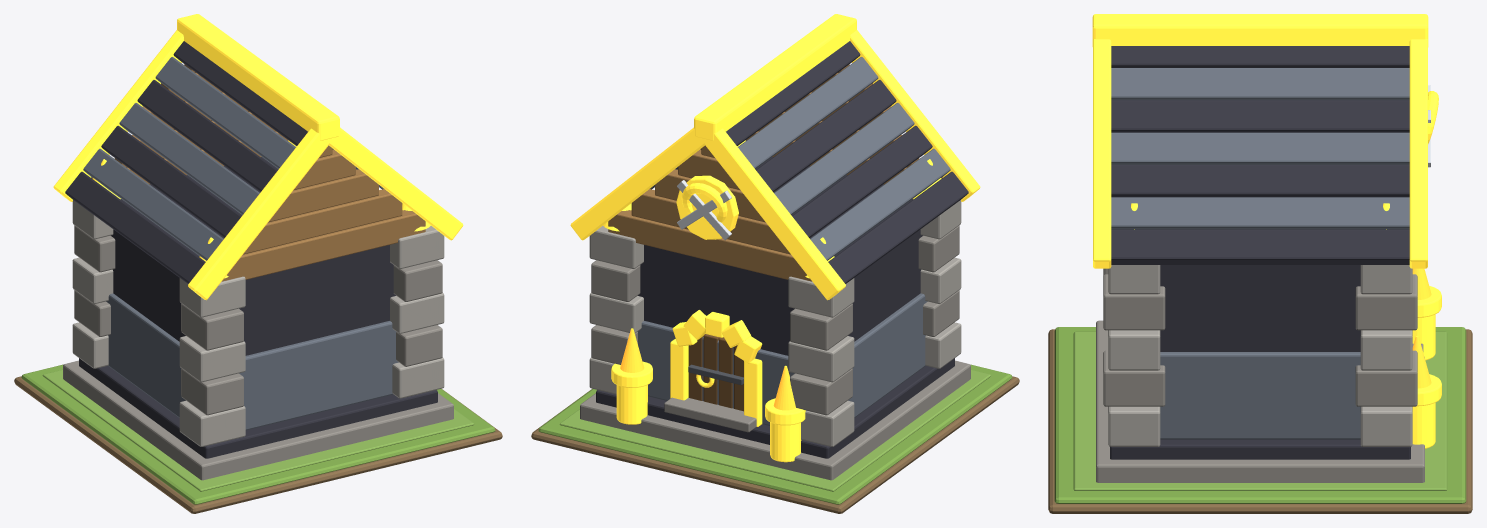
Rendered from hero_hall_lv9.glb.
3 views of the same model, side by side, from view 1: azimuth 30°, elevation 25°; view 2: azimuth 150°, elevation 25°; view 3: azimuth 270°, elevation 25° (orthographic). The views are drawn at different scales.
Parts seen in each view (by area): view 1: HeroStoneWainscot, HeroHallCore, HeroPlinth1, Base_Grass, HeroPlinth2, RidgeBeam, Base_Inner, Bargeboard_-1_-1, Base_Dirt, Gable_-1_0, RoofSlope_-1_4, RoofSlope_-1_6 (+25 smaller); view 2: HeroHallCore, HeroStoneWainscot, HeroPlinth1, Base_Grass, RidgeBeam, Base_Inner, Bargeboard_1_-1, Base_Dirt, Gable_1_0, RoofSlope_-1_4, RoofSlope_-1_6, RoofSlope_-1_3 (+40 smaller); view 3: HeroStoneWainscot, HeroHallCore, Base_Grass, RoofSlope_1_6, RidgeBeam, RoofSlope_1_1, RoofSlope_1_2, RoofSlope_1_3, RoofSlope_1_4, RoofSlope_1_5, HeroPlinth1, Base_Inner (+20 smaller).
Boxes of the visible parts, x1,y1,x2,y2 form: HeroStoneWainscot: [106, 293, 398, 430]; HeroHallCore: [111, 157, 395, 355]; HeroPlinth1: [63, 360, 453, 480]; Base_Grass: [21, 364, 495, 504]; HeroPlinth2: [79, 358, 437, 458]; RidgeBeam: [177, 14, 339, 140]; Base_Inner: [42, 370, 474, 491]; Bargeboard_-1_-1: [188, 128, 333, 300]; Base_Dirt: [14, 376, 502, 513]; Gable_-1_0: [222, 210, 425, 281]; RoofSlope_-1_4: [101, 125, 241, 237]; RoofSlope_-1_6: [65, 171, 205, 283]; HeroHallCore: [638, 157, 922, 355]; HeroStoneWainscot: [637, 293, 927, 425]; HeroPlinth1: [580, 360, 970, 480]; Base_Grass: [538, 364, 1012, 504]; RidgeBeam: [694, 14, 856, 140]; Base_Inner: [559, 370, 991, 491]; Bargeboard_1_-1: [701, 128, 845, 300]; Base_Dirt: [531, 376, 1019, 513]; Gable_1_0: [608, 210, 811, 281]; RoofSlope_-1_4: [792, 125, 932, 237]; RoofSlope_-1_6: [828, 171, 968, 283]; RoofSlope_-1_3: [774, 103, 914, 214]; HeroStoneWainscot: [1160, 352, 1360, 439]; HeroHallCore: [1160, 265, 1360, 351]; Base_Grass: [1054, 327, 1466, 503]; RoofSlope_1_6: [1111, 229, 1409, 264]; RidgeBeam: [1092, 14, 1428, 46]; RoofSlope_1_1: [1111, 68, 1409, 100]; RoofSlope_1_2: [1111, 100, 1409, 132]; RoofSlope_1_3: [1111, 132, 1409, 164]; RoofSlope_1_4: [1111, 165, 1409, 197]; RoofSlope_1_5: [1111, 197, 1409, 229]; HeroPlinth1: [1096, 320, 1424, 482]; Base_Inner: [1073, 331, 1447, 490].
Bounding box in the file's own units: 2.76 × 2.92 × 2.76.
